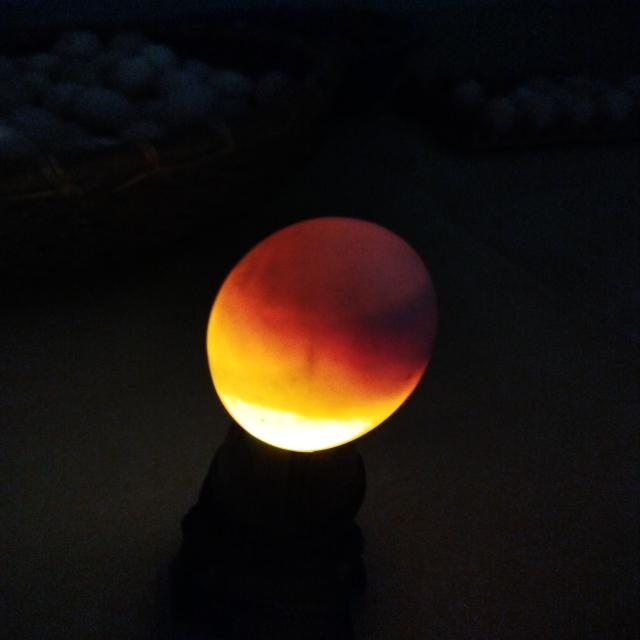Area Infectada: (352, 280, 440, 365)
